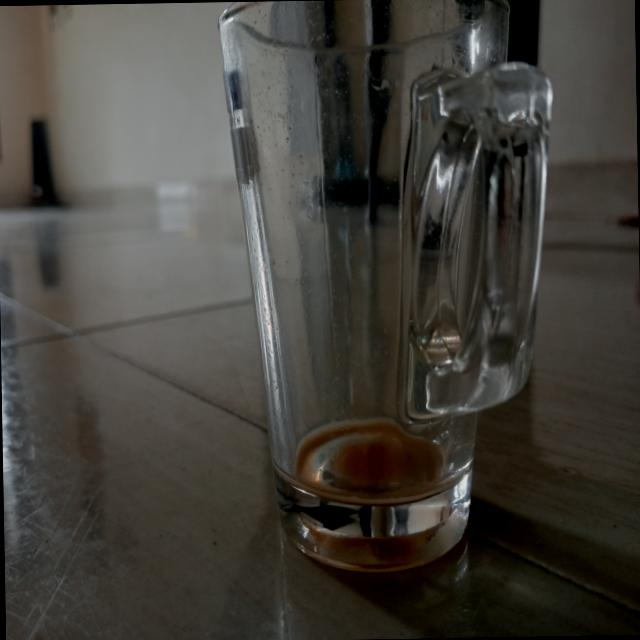glass-VX4N: (216, 0, 564, 580)
